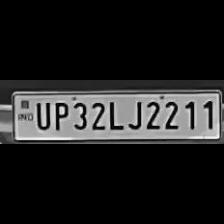1: (180, 98, 198, 130), (199, 98, 215, 130)
2: (160, 97, 180, 130), (88, 97, 106, 130), (142, 97, 160, 130)
3: (70, 99, 88, 131)
J: (124, 97, 142, 130)
L: (106, 97, 124, 130)
P: (50, 99, 68, 130)
U: (34, 100, 50, 130)
